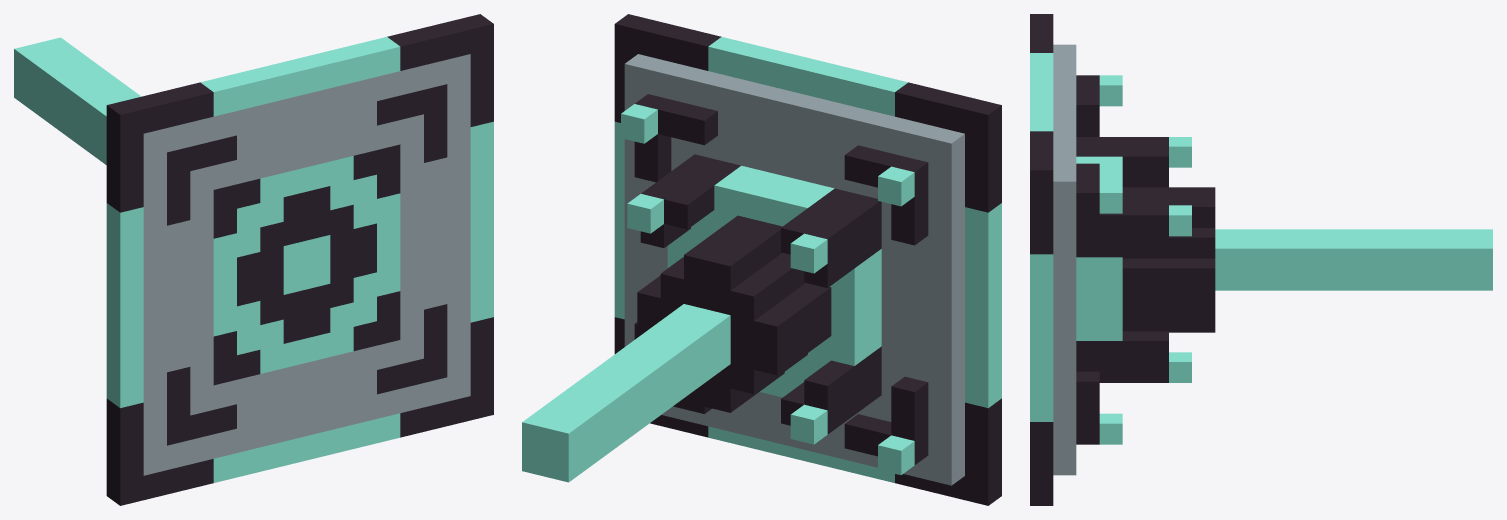
File: Ilumination-3.obj
3 renders of one model, left to right at view 1: azimuth 30°, elevation 25°; view 2: azimuth 150°, elevation 25°; view 3: azimuth 270°, elevation 25°, orthographic. The views are drawn at different scales.
Size of the model in its own units: 1.6 by 1.6 by 2.
Materials: 1 (1 with a texture image).
